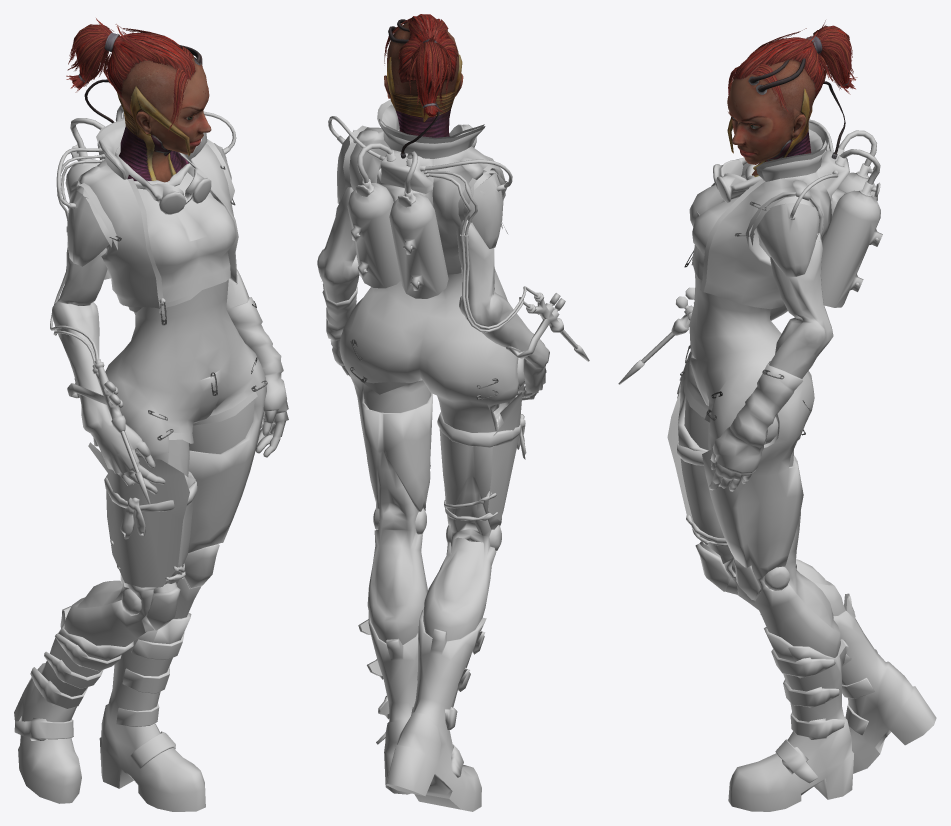
The picture shows the model from 3 angles, left to right: view 1: azimuth 30°, elevation 25°; view 2: azimuth 150°, elevation 25°; view 3: azimuth 270°, elevation 25°; orthographic projection.
Parts seen in each view (by area): view 1: JC_LOD0; view 2: JC_LOD0; view 3: JC_LOD0.
Part boxes in pixels (bbox=[...]): JC_LOD0: bbox=[14, 18, 288, 811]; JC_LOD0: bbox=[317, 14, 589, 811]; JC_LOD0: bbox=[618, 20, 936, 811].
Bounding box in the file's own units: 29.95 × 105 × 39.69.
